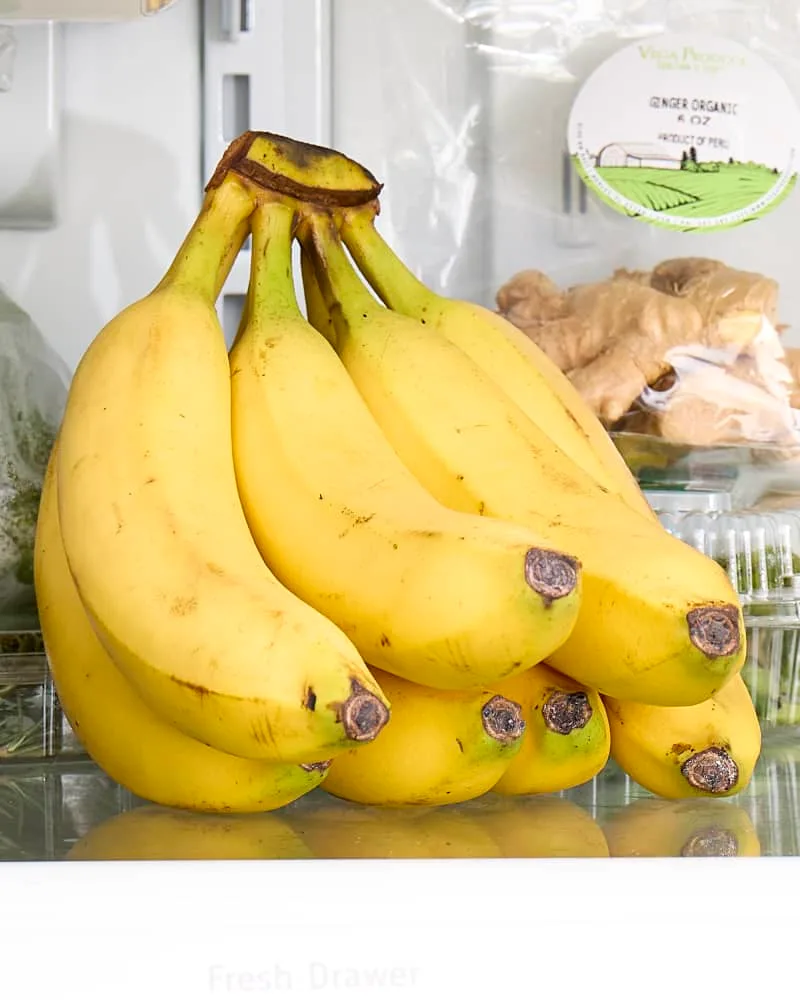banana: (33, 123, 764, 807)
